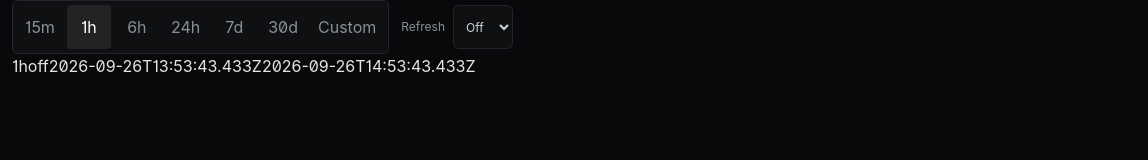
admin time range preferences › rejects a custom range whose end is not after its start
This screenshot has width=1148, height=160.
Click the button "Custom": (347, 27) [310,5,384,49]
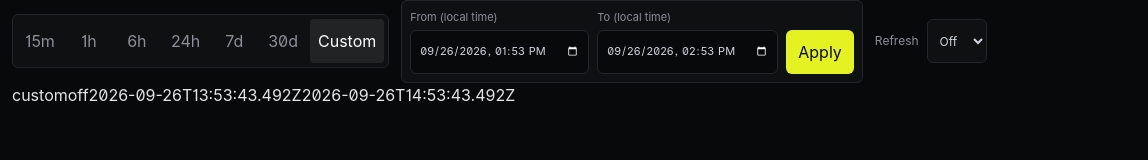
Replace the text in the field labelled "From (local time)" with "2026-09-17T11:00": (500, 52) [410,30,589,74]
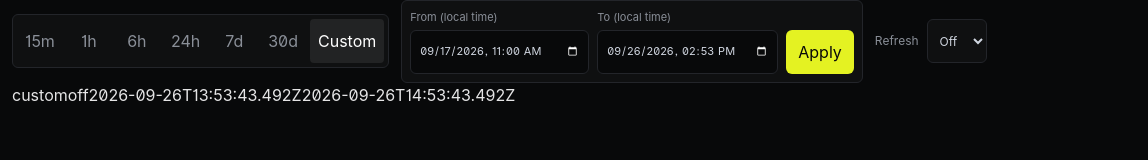
Replace the text in the field labelled "To (local time)" with "2026-09-17T10:00": (688, 52) [597,30,778,74]
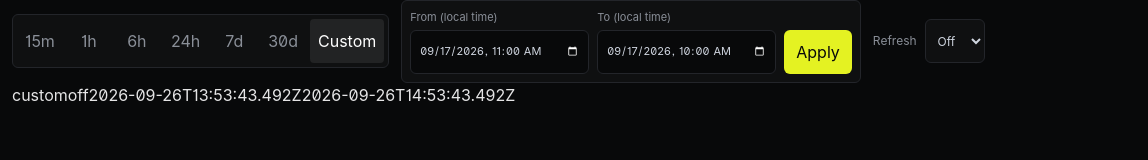
Click the button "Apply": (818, 52) [784,30,852,74]
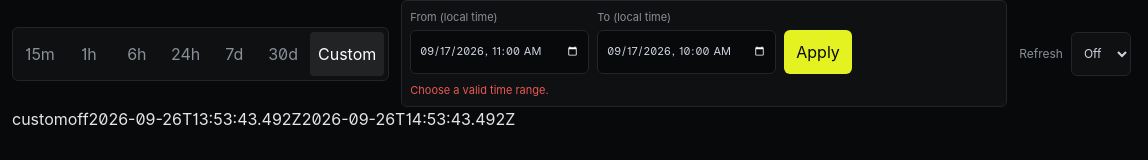
Result: the text with test id "range" reads "custom" at [12,109,68,129]
Result: the message reads "Choose a valid time range." at [410,82,549,96]
